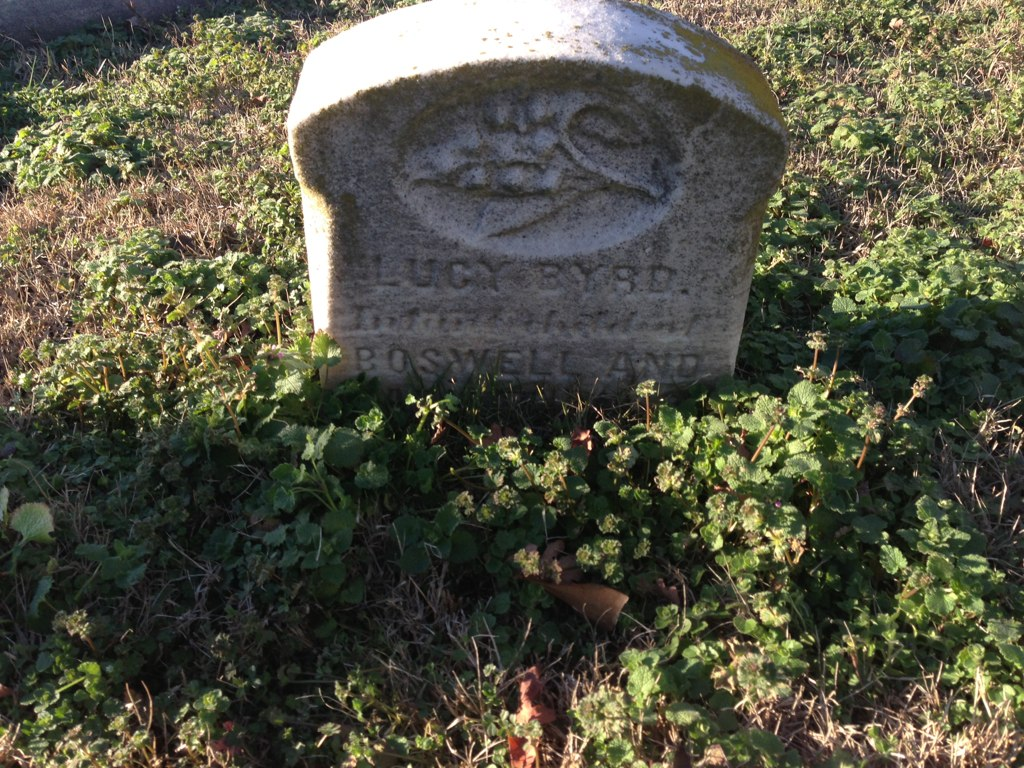upright: (287, 2, 773, 384)
